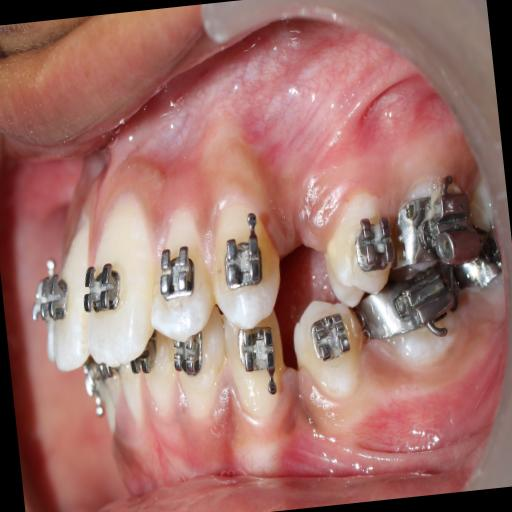correct_brace: (318, 188, 396, 308), (217, 230, 269, 299), (156, 239, 205, 310), (80, 251, 126, 320)
incorrect_brace: (144, 207, 217, 343), (352, 212, 396, 278)
